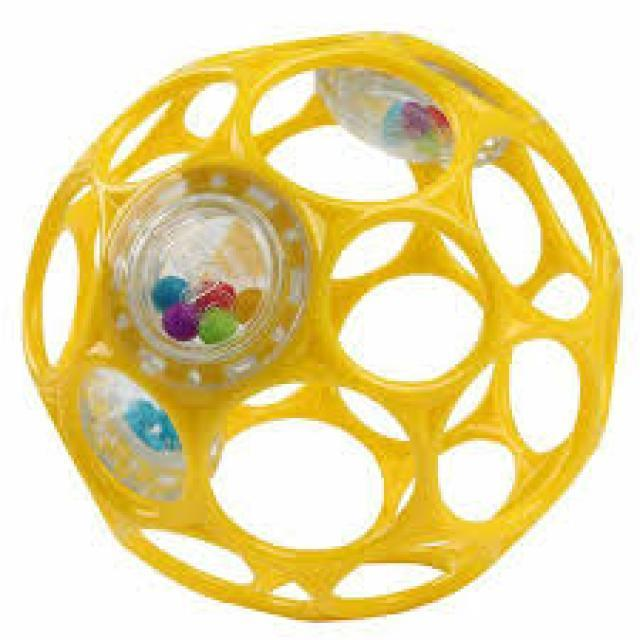hard-toy: (25, 35, 619, 618)
